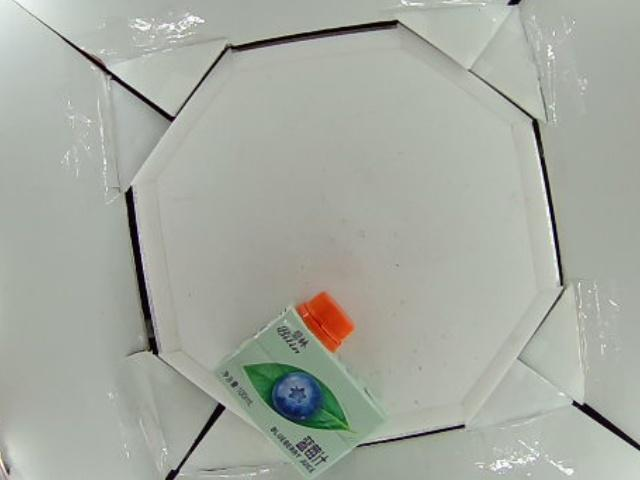Bottle: (220, 290, 387, 480)
